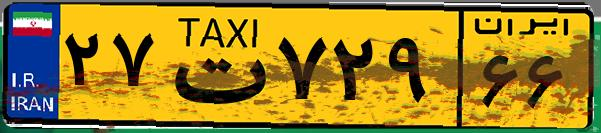2: (330, 28, 385, 110), (57, 26, 110, 100)
6: (475, 38, 525, 113), (525, 38, 570, 115)
7: (270, 28, 330, 110), (110, 28, 158, 98)
9: (385, 28, 445, 110)
ت: (158, 12, 270, 120)
